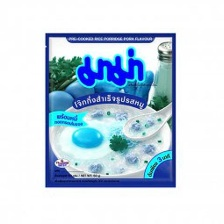snack: (36, 21, 183, 194)
